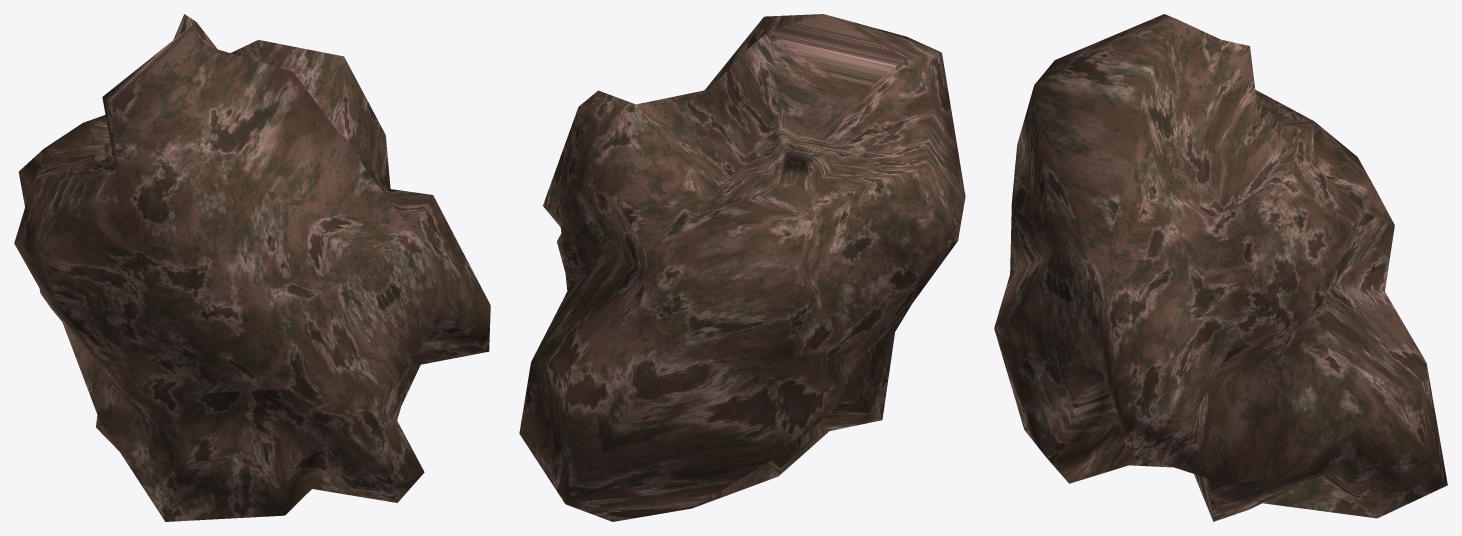
File: asteroid6.obj
The picture shows the model from 3 angles, left to right: view 1: azimuth 30°, elevation 25°; view 2: azimuth 150°, elevation 25°; view 3: azimuth 270°, elevation 25°; orthographic projection. The views are drawn at different scales.
Parts seen in each view (by area): view 1: asteroid_6; view 2: asteroid_6; view 3: asteroid_6.
Part boxes in pixels (box(x1,y1,x2,y2)): asteroid_6: box(14, 14, 490, 521); asteroid_6: box(519, 14, 965, 521); asteroid_6: box(994, 14, 1447, 521).
Bounding box in the file's own units: 2.05 × 2.21 × 2.06.
1 material, 1 textured.
